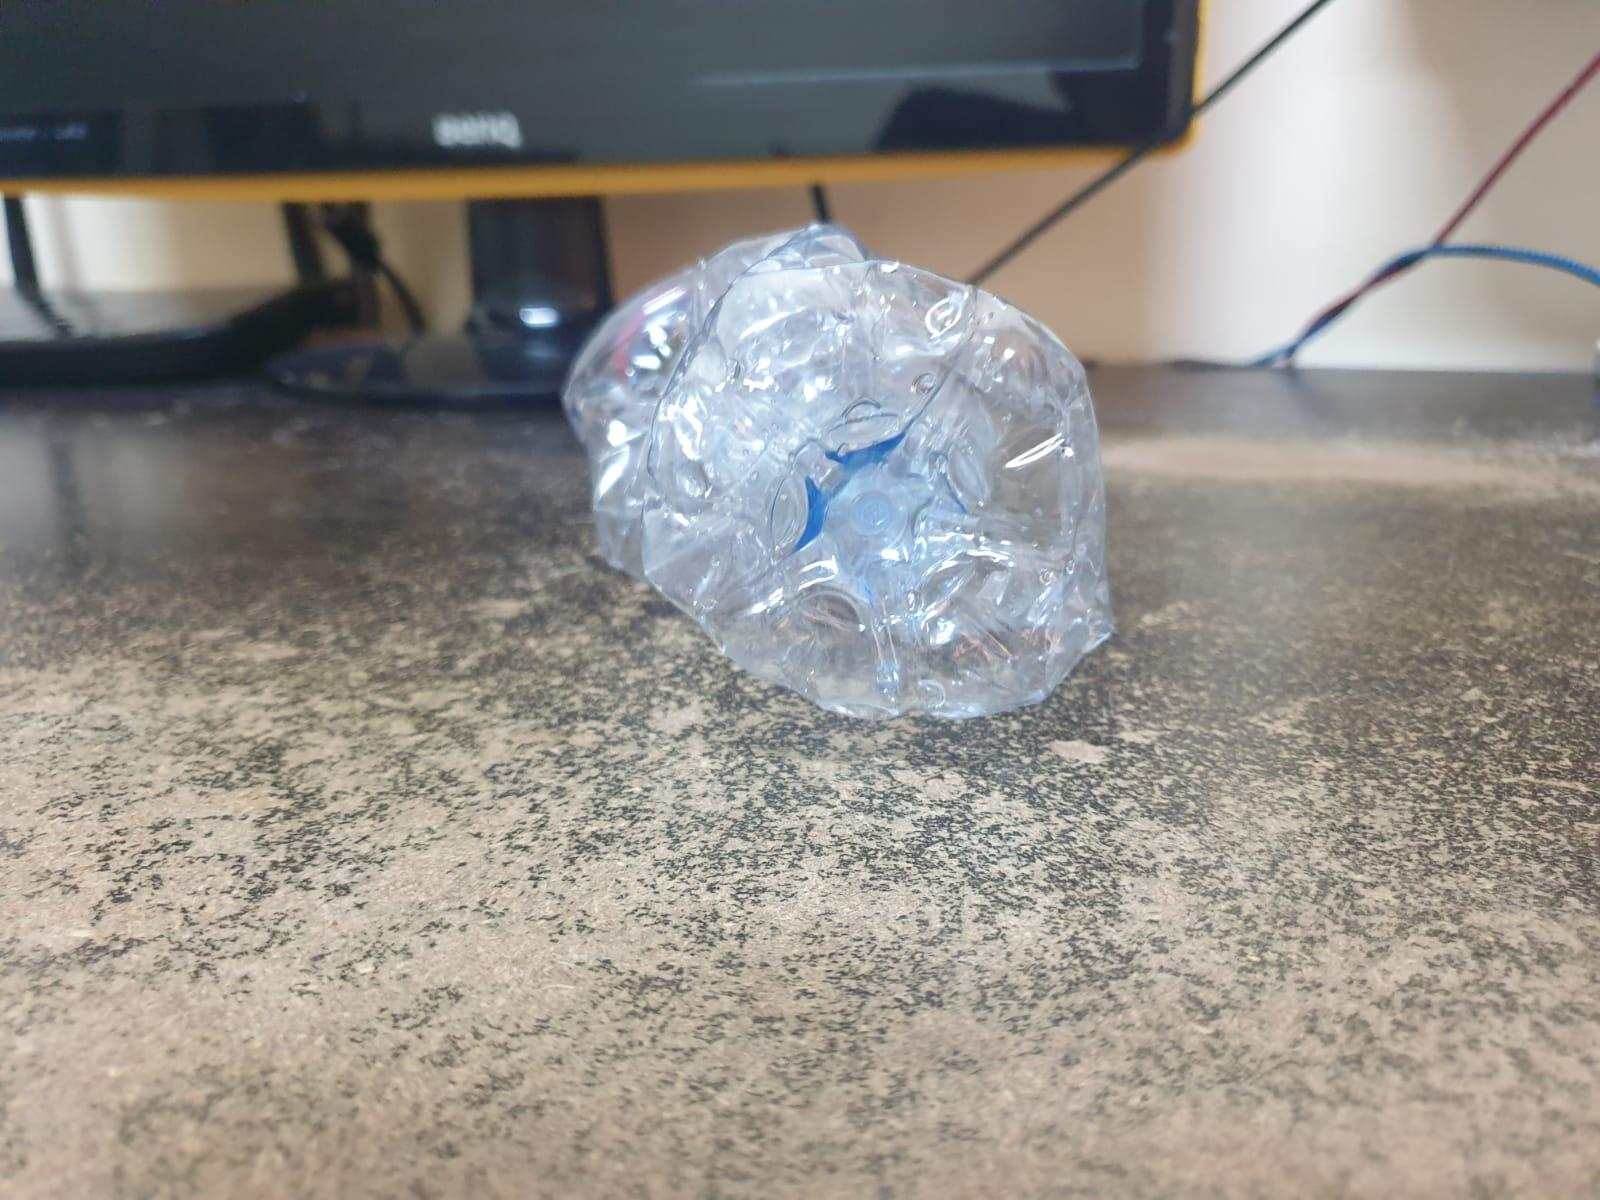bottle: (571, 227, 1126, 731)
